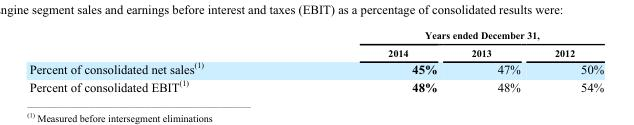table: (28, 29, 603, 93)
table column: (28, 29, 295, 93), (295, 29, 453, 93), (453, 29, 536, 93), (536, 29, 603, 93)
table column header: (28, 29, 603, 59)
table row: (28, 59, 603, 76), (28, 76, 603, 93), (28, 43, 603, 59), (28, 29, 603, 43)
table spanning cell: (295, 29, 603, 43)
